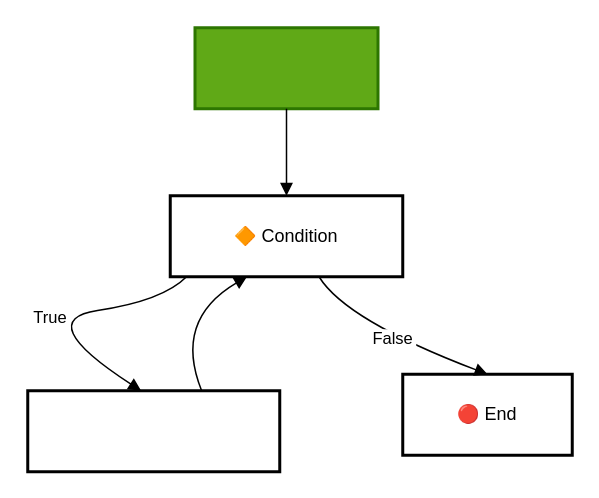
Some shapes in this 599 by 498 pixel diagram are drawn without their labels. The shapes that lost their labels are listed below. From the top down, each one's centre as x and y in pixels, then its label:
At (x=286, y=68): "🟢 Start".
At (x=153, y=430): "🟣 Statements".
